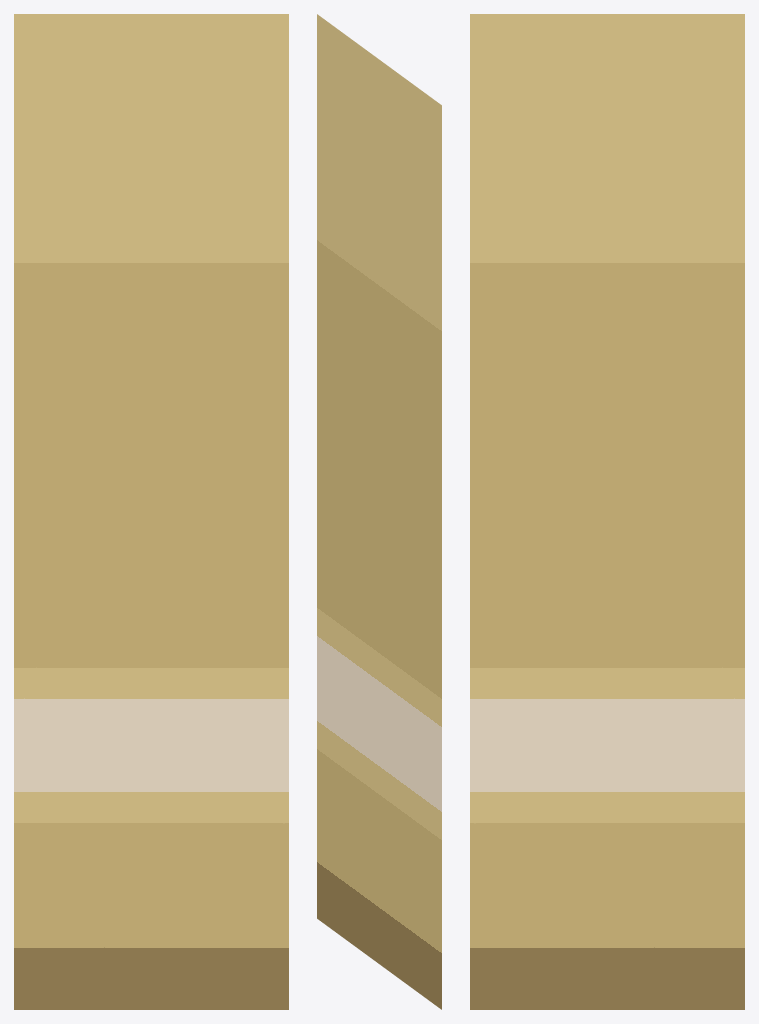
The picture shows the model from 3 angles, left to right: view 1: azimuth 90°, elevation 25°; view 2: azimuth 210°, elevation 25°; view 3: azimuth 270°, elevation 25°; orthographic projection. The views are drawn at different scales.
Bounding box in the file's own units: 0 × 4 × 1.
Materials: 1 (1 with a texture image).
